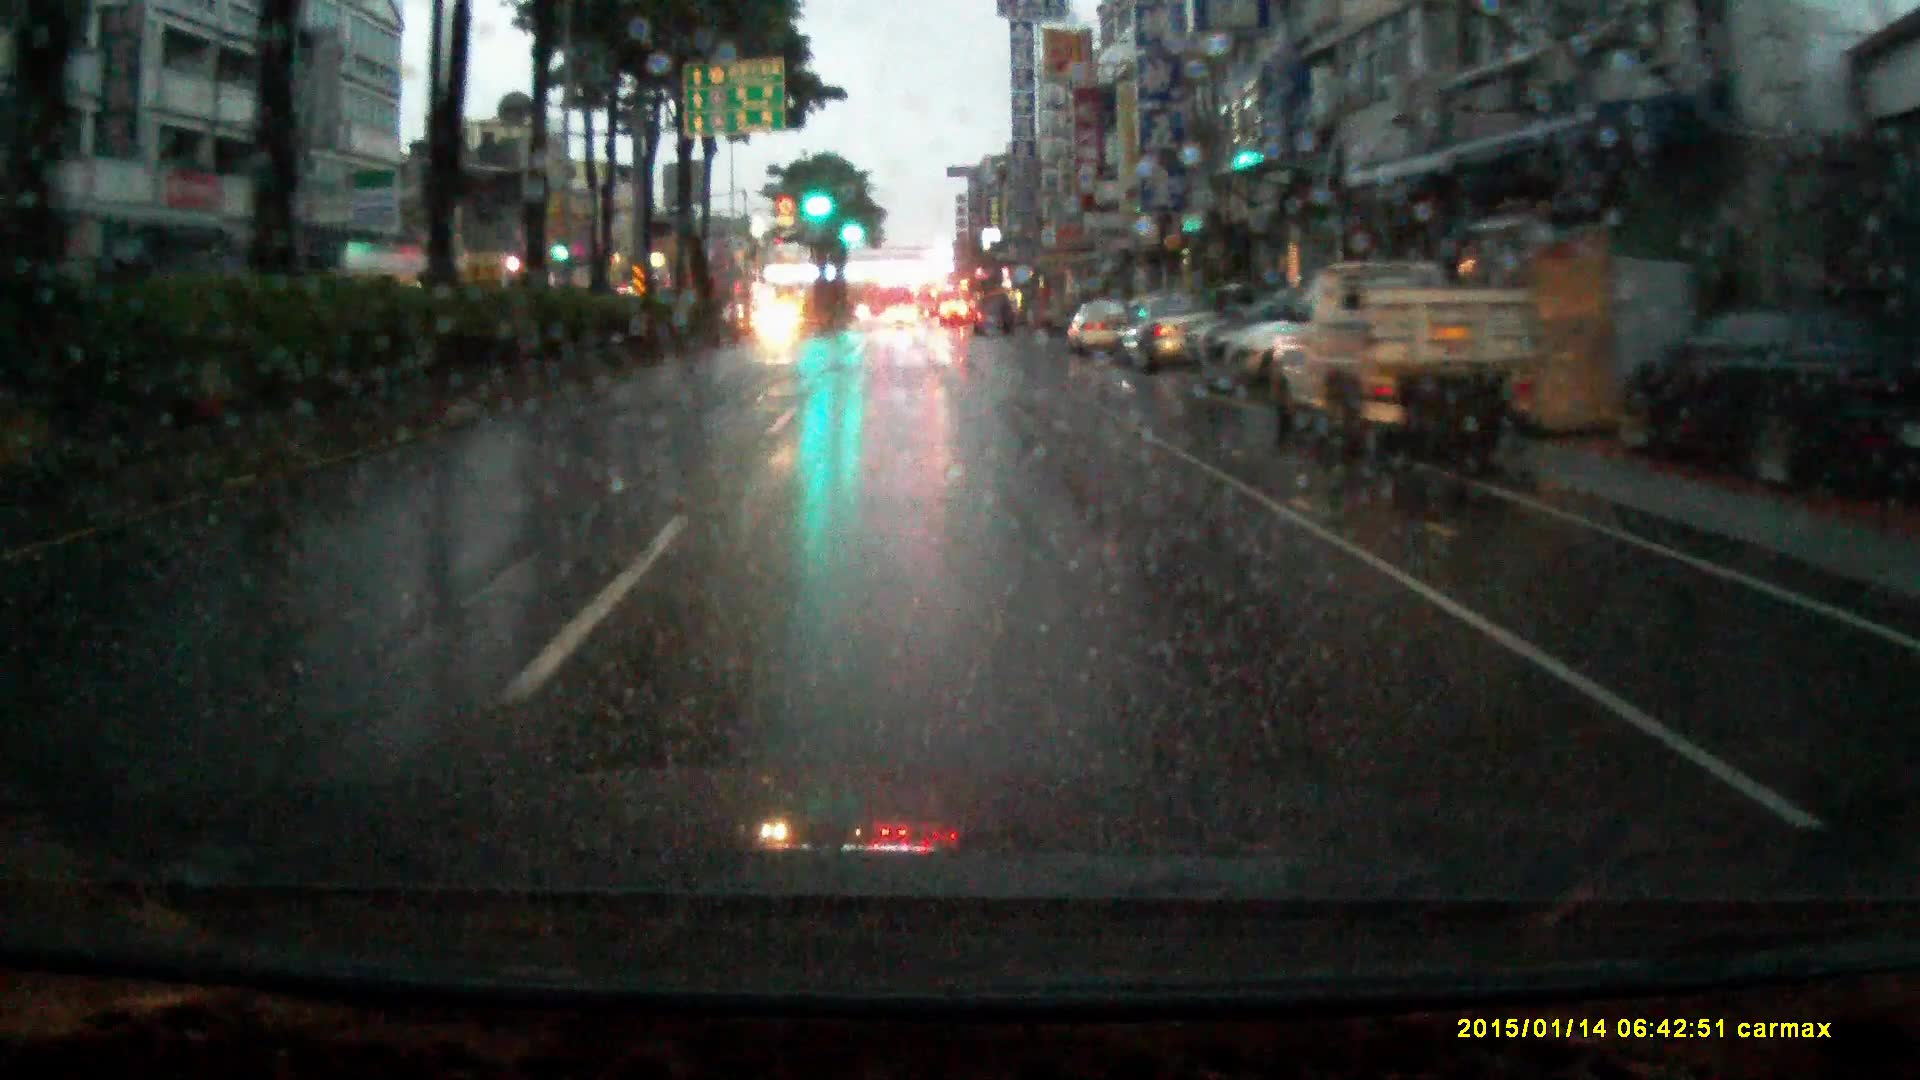vehicle: (1604, 301, 1902, 491), (1269, 262, 1542, 465), (1120, 291, 1232, 376), (1069, 301, 1127, 359), (971, 294, 1017, 338), (756, 301, 806, 340), (914, 282, 938, 318), (942, 299, 971, 327), (886, 305, 919, 324)
